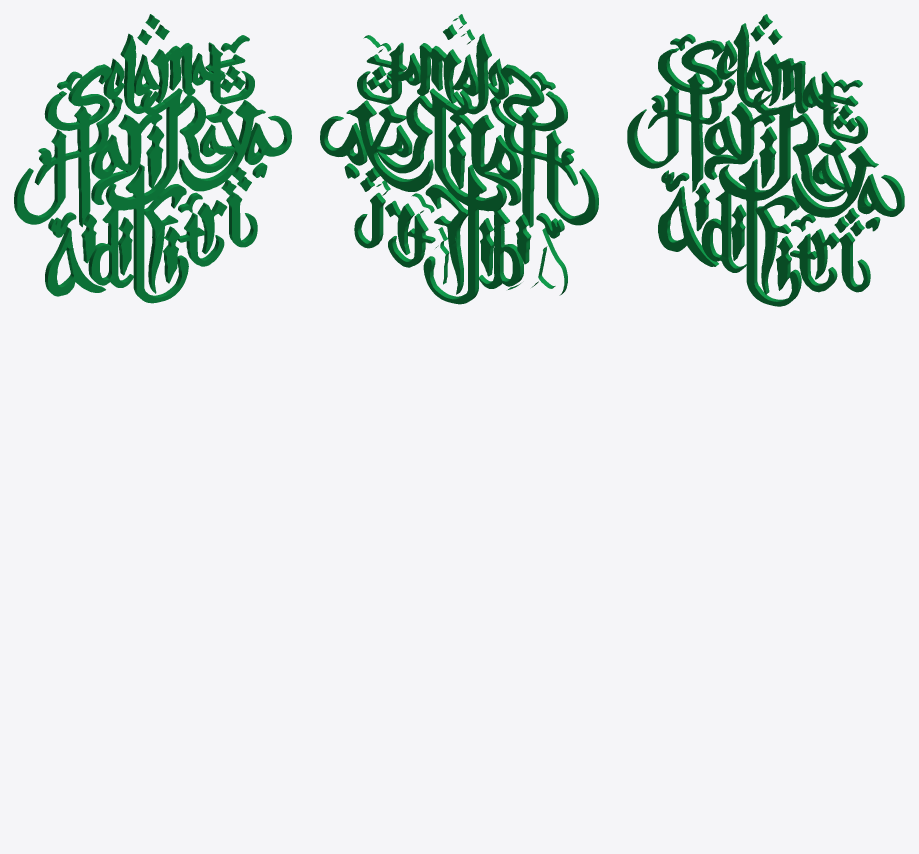
File: selamathariraya.gltf
3 renders of one model, left to right at view 1: azimuth 30°, elevation 25°; view 2: azimuth 150°, elevation 25°; view 3: azimuth 330°, elevation 25°, orthographic.
Parts seen in each view (by area): view 1: Plane; view 2: Plane; view 3: Plane.
Part boxes in pixels (left/top/right/bottom): Plane: left=14, top=14, right=291, bottom=303; Plane: left=320, top=14, right=598, bottom=304; Plane: left=627, top=14, right=904, bottom=306.
Size of the model in its own units: 0.6078 by 1.7 by 0.12.
1 material, 1 textured.
